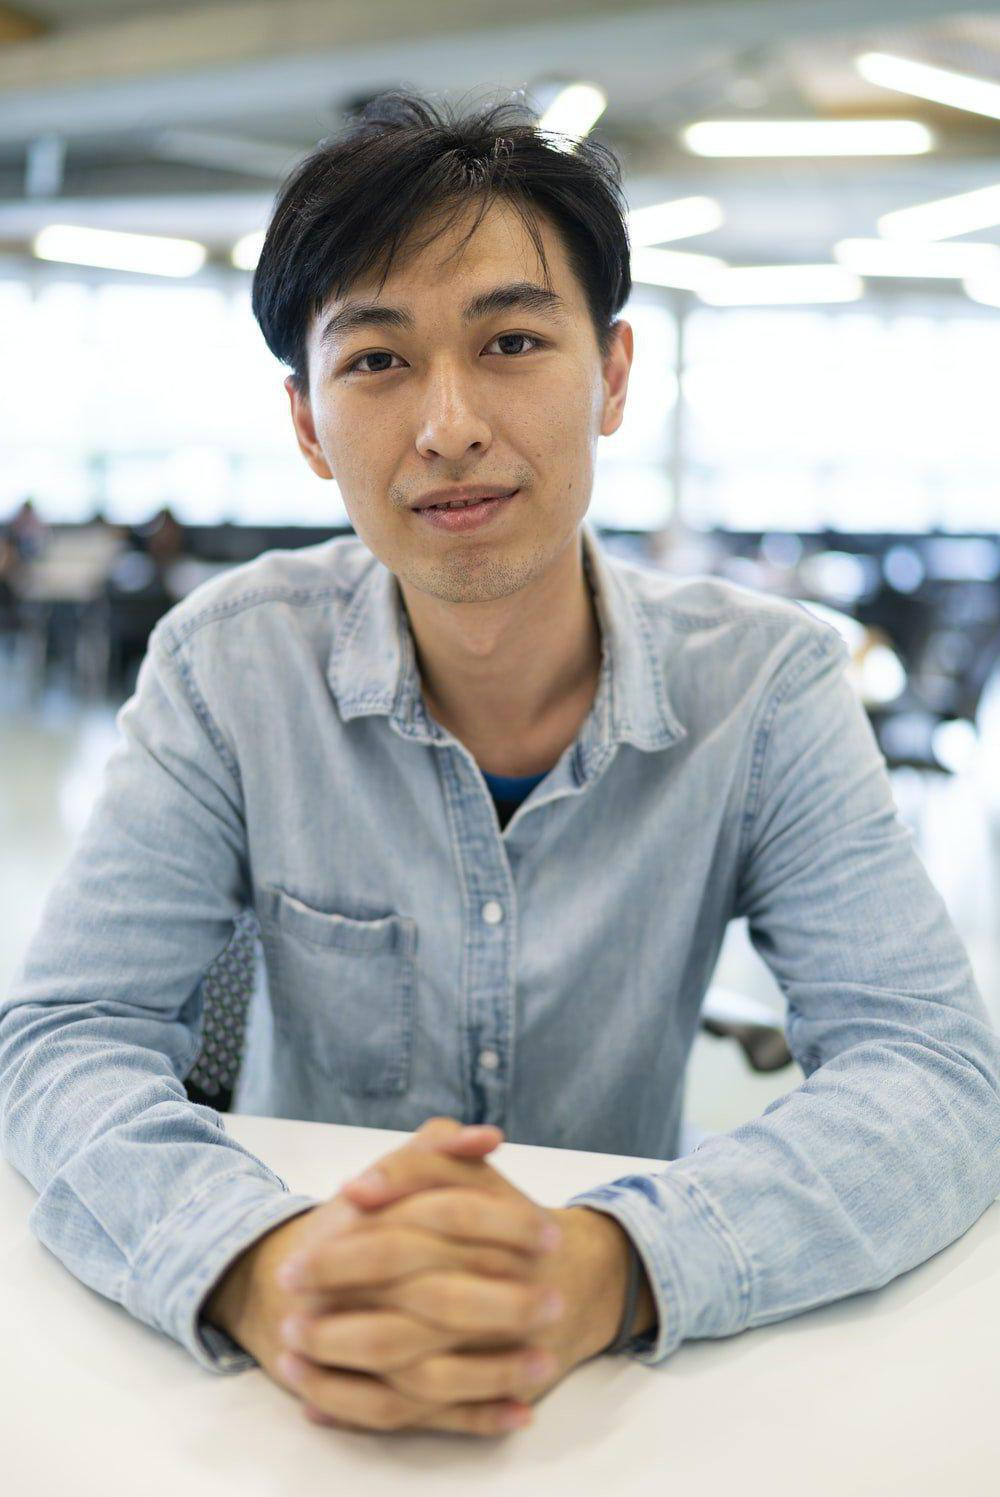Sober: (305, 224, 617, 593)
